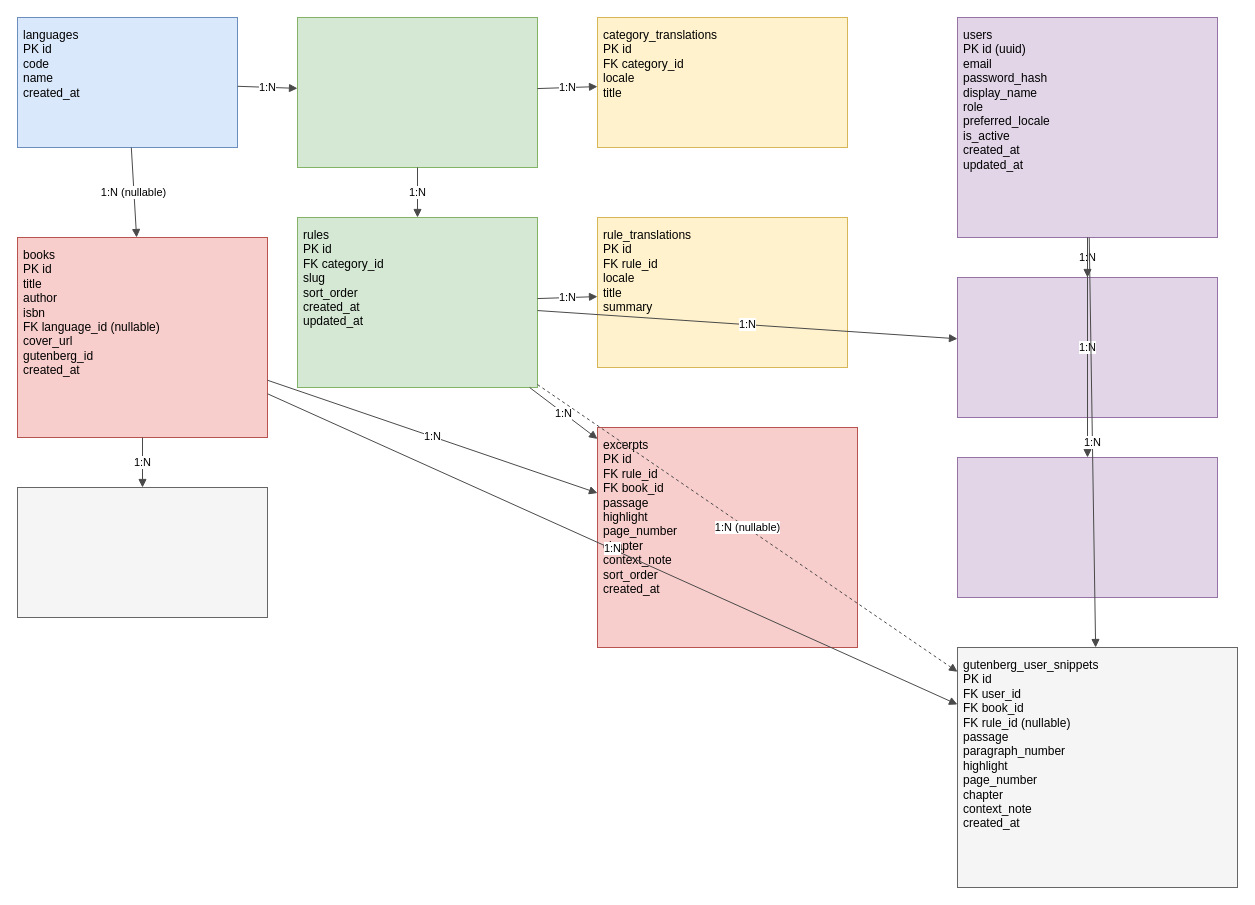
This 1255x905 diagram has some shape labels left out. The shapes that lost their labels are listed below. From the top down, each one's centre as x and y in pixels, then its label:
pixel 417 92: categories PK id FK language_id slug sort_order created_at
pixel 1087 347: user_progress PK id FK user_id FK rule_id status updated_at
pixel 1087 527: favourites PK id FK user_id target_type target_id created_at
pixel 142 552: gutenberg_texts PK id FK book_id full_text created_at
